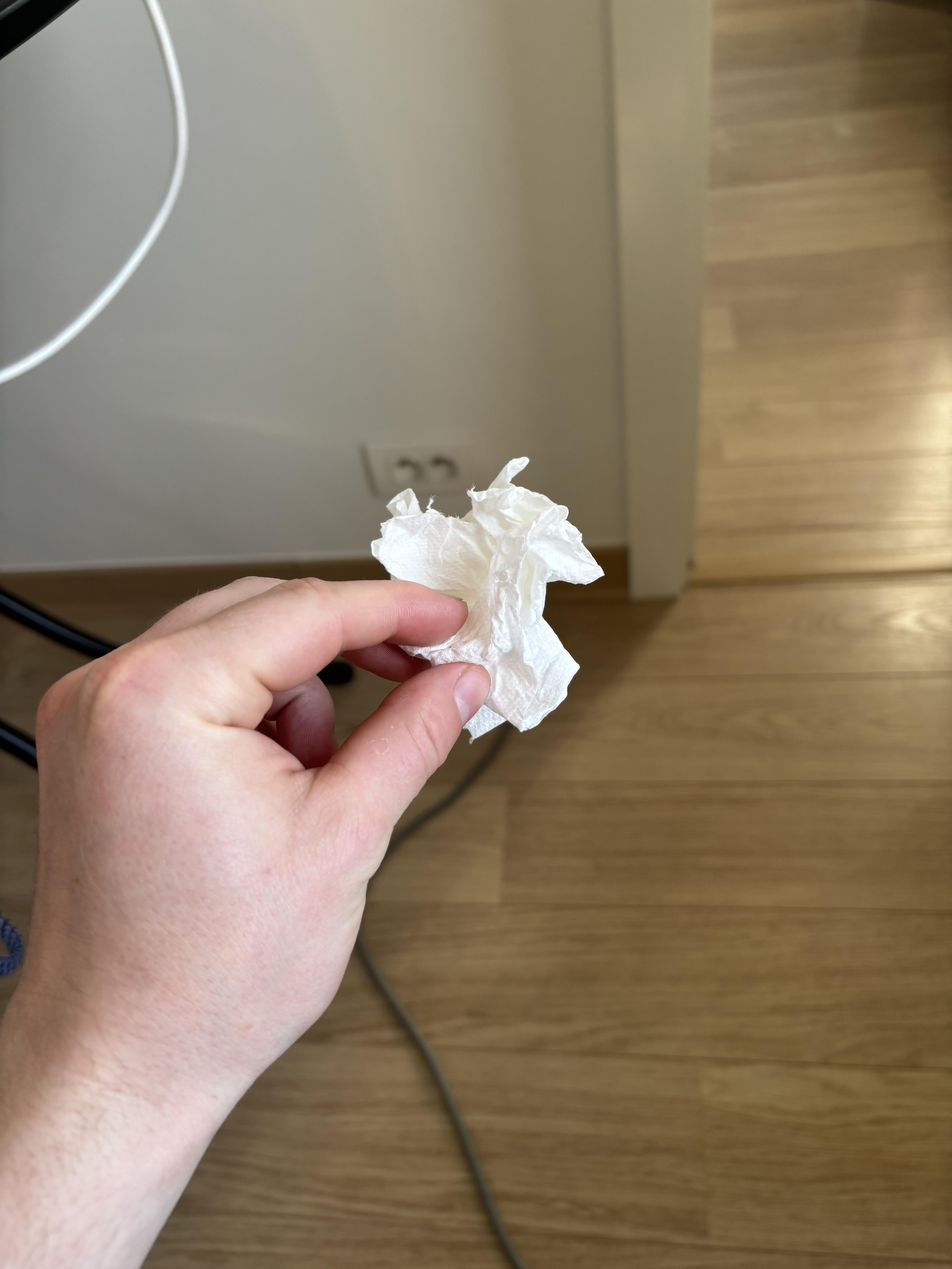Paper: (364, 437, 624, 743)
